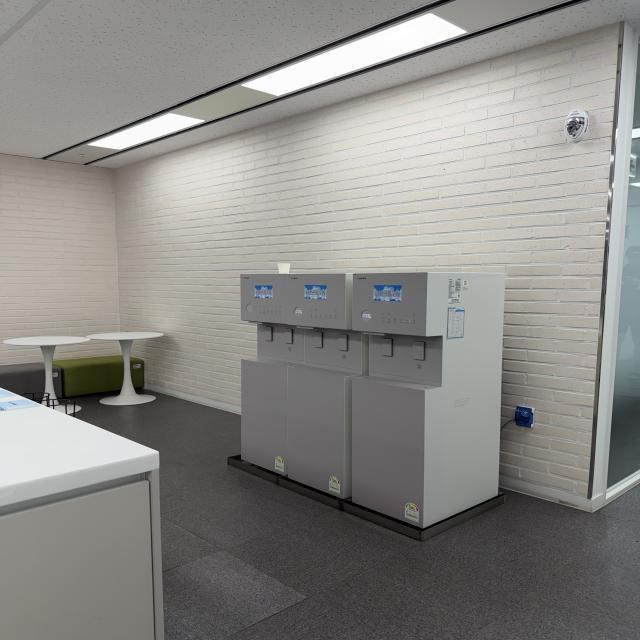water_dispenser: (236, 271, 505, 540)
